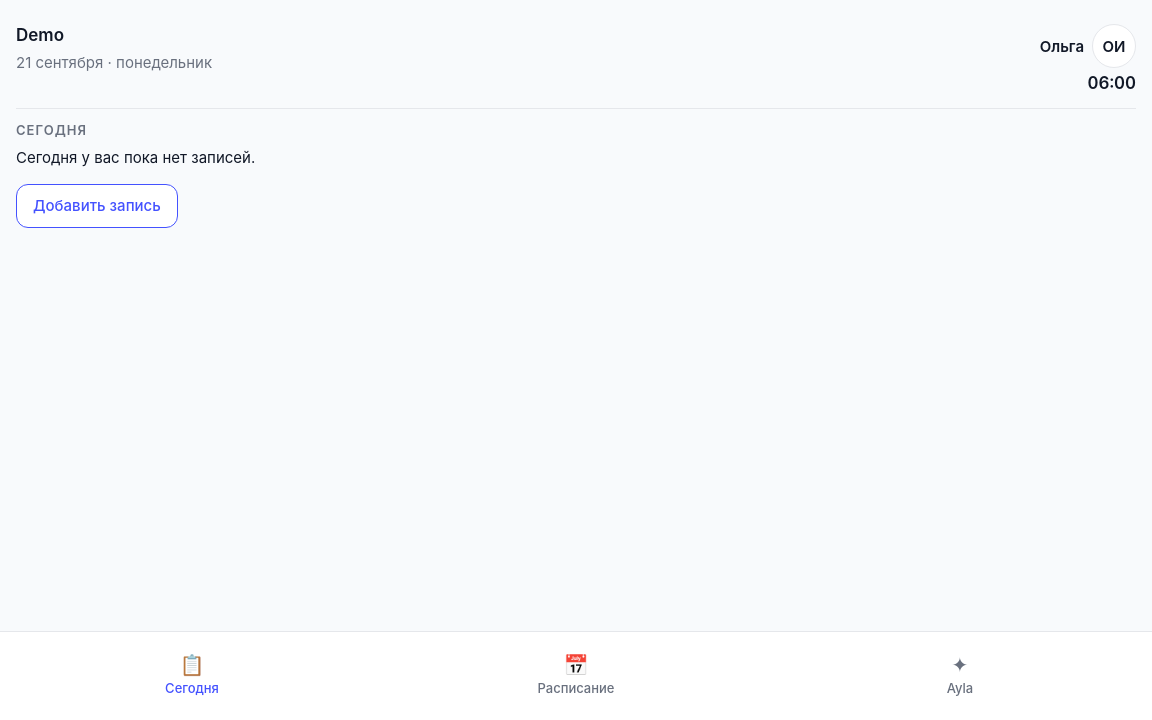
it: solo — как прежде (DRF-2254) › «Услуги» в листе аватара есть
This screenshot has width=1152, height=720.
Click the button with aria-label "Меню профиля" at (1114, 46), box 1092,24 -> 1136,68
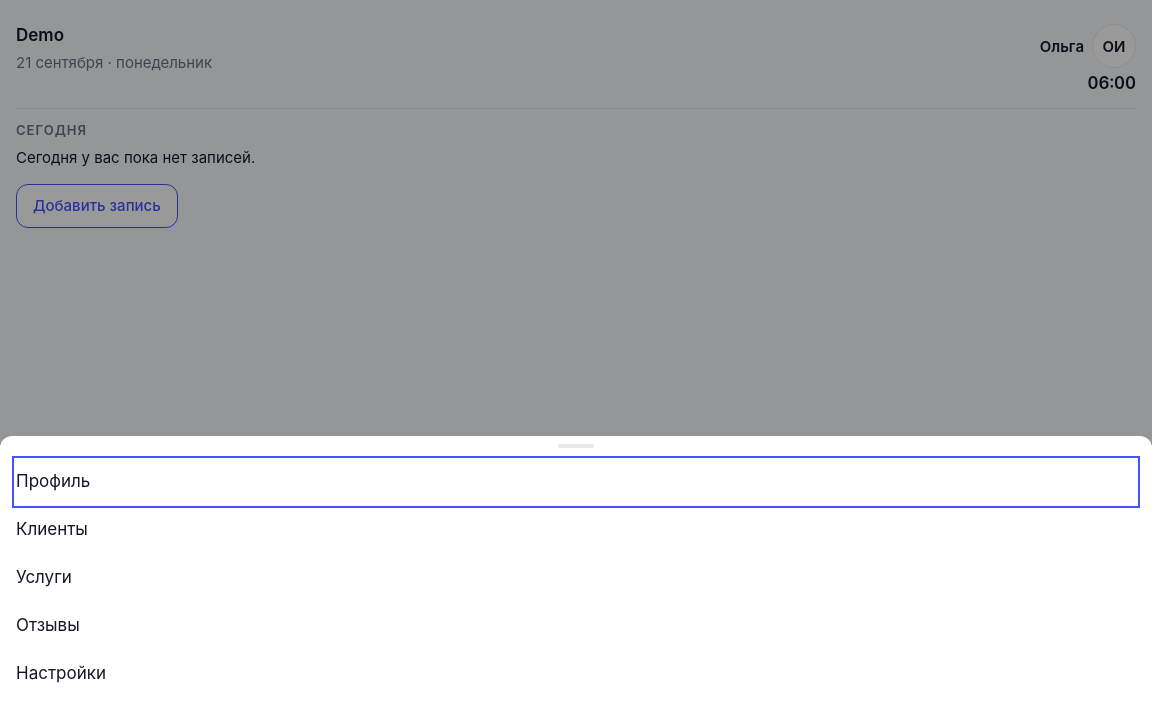
Expected: the button "Услуги" is shown, 16,556 -> 1136,600
